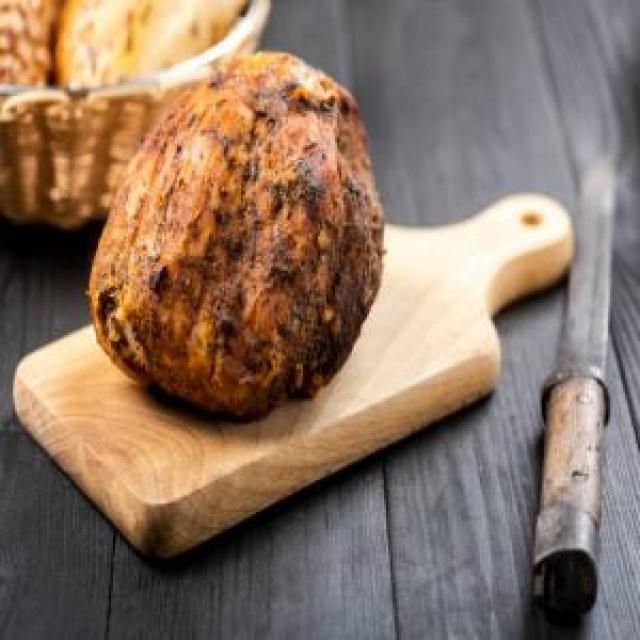knife: (527, 149, 623, 618)
